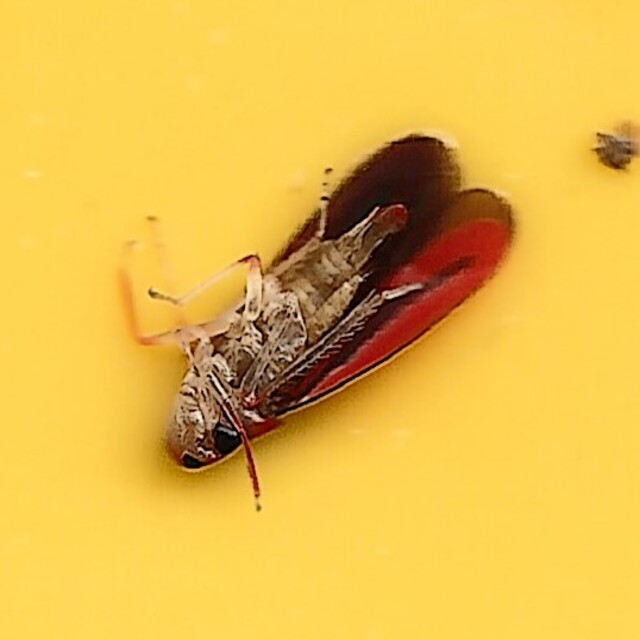Hemiptera: (119, 125, 521, 515)
